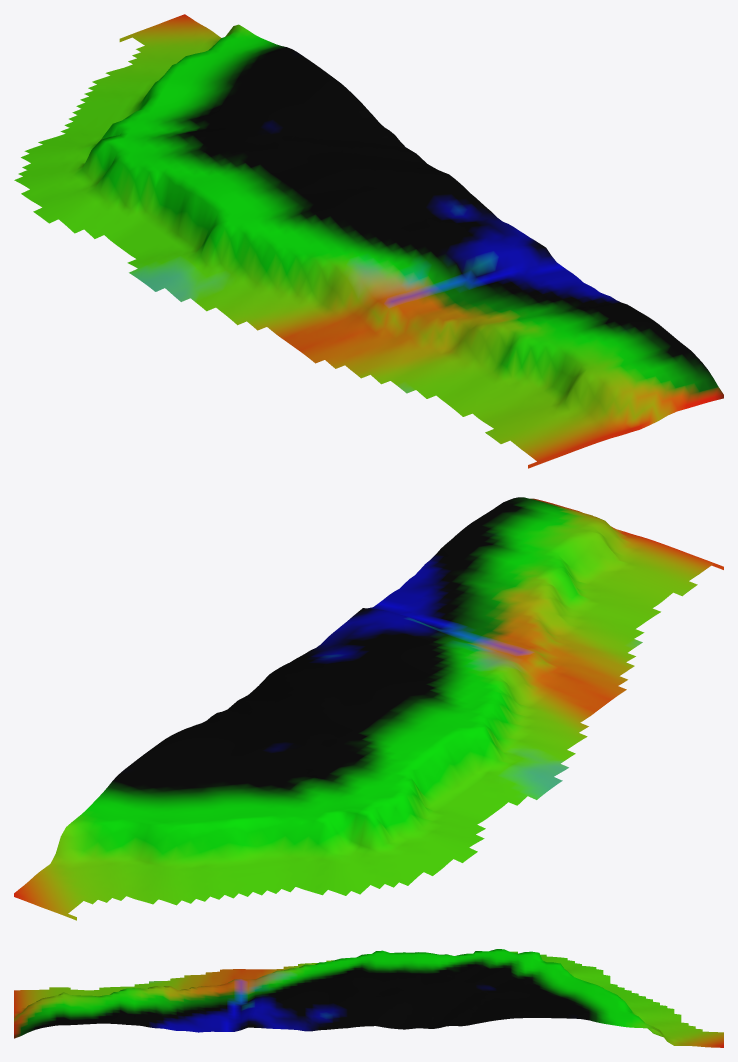
The model's file is coast_-800_-400_400.glb.
The picture shows the model from 3 angles, top to bottom: view 1: azimuth 30°, elevation 25°; view 2: azimuth 150°, elevation 25°; view 3: azimuth 270°, elevation 25°; orthographic projection. The views are drawn at different scales.
Parts seen in each view (by area): view 1: terrain; view 2: terrain; view 3: terrain.
Boxes of the visible parts, x1,y1,x2,y2 form: terrain: [14, 14, 723, 468]; terrain: [14, 497, 723, 920]; terrain: [14, 949, 723, 1047].
Bounding box in the file's own units: 132 × 23.87 × 400.
